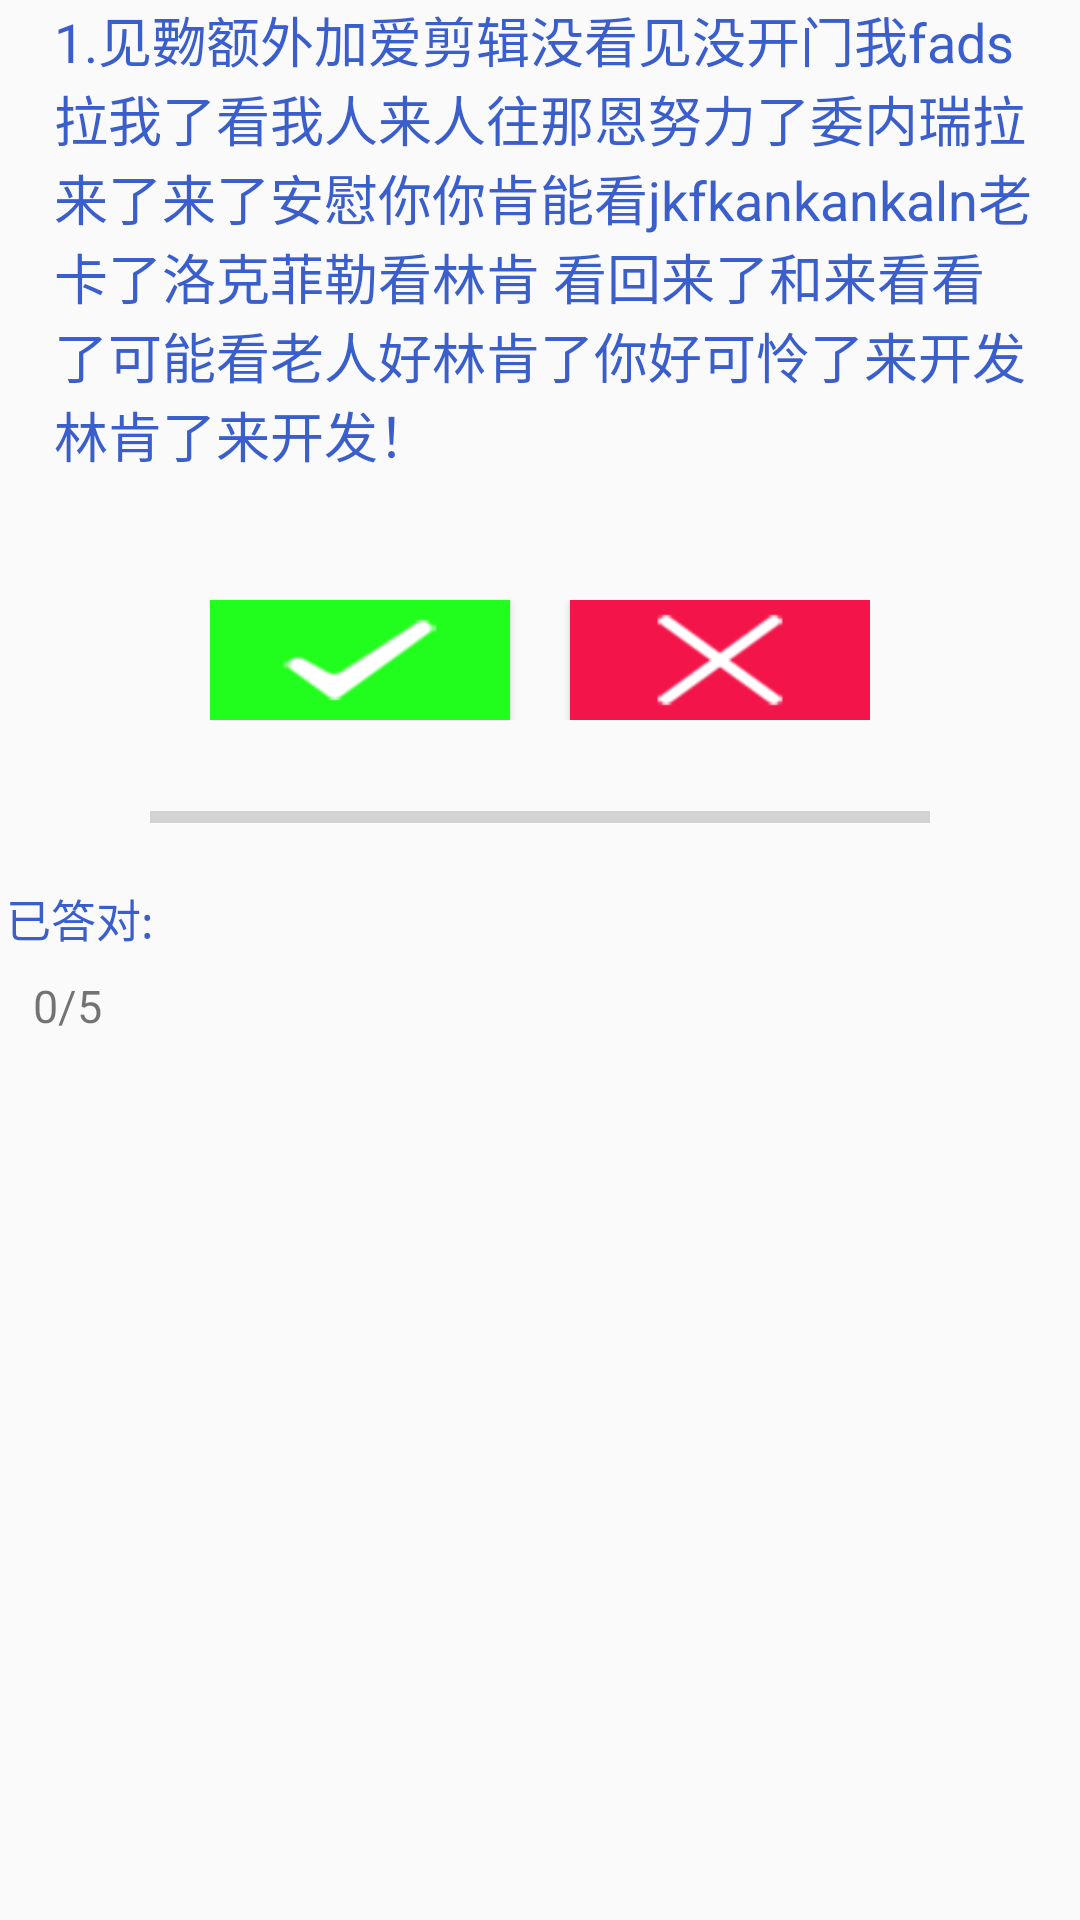

Locate icon controls on the screen. Image size 1080 x 1920, boxes as (x1, y1, x2, y2).
greenbutton: (210, 600, 510, 720)
redbutton: (570, 600, 870, 720)
